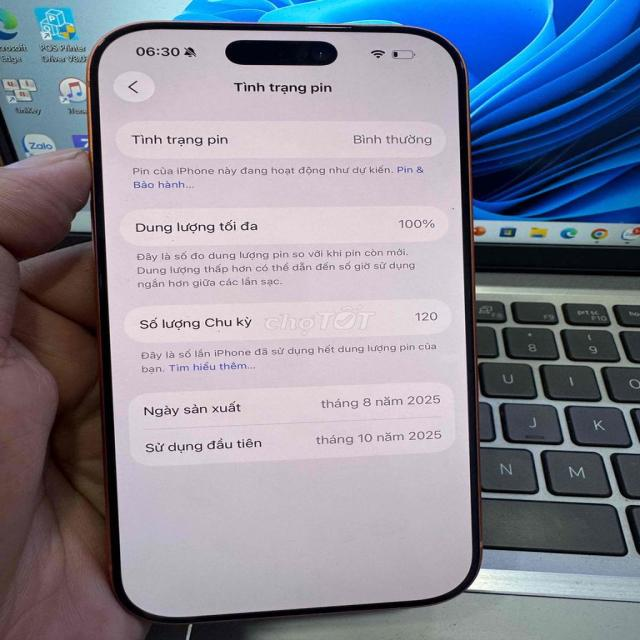gen_17: (83, 23, 495, 628)
